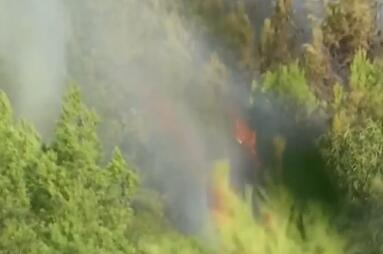fire: (232, 111, 258, 156)
yanwu: (1, 0, 278, 235)
